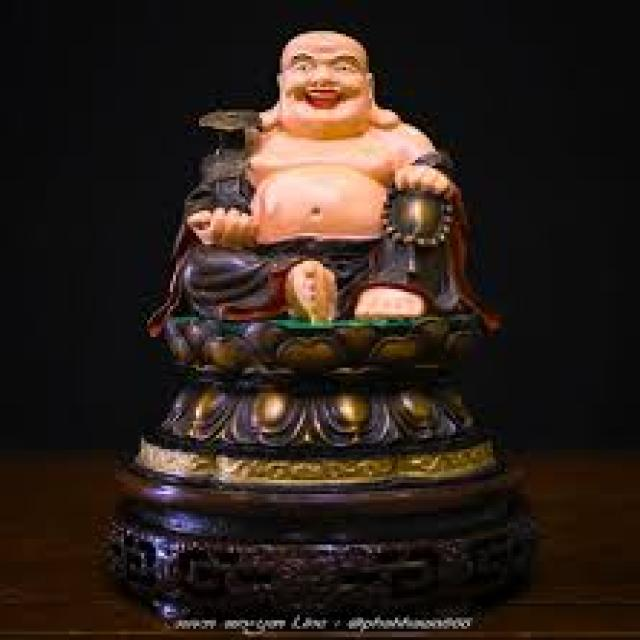Smiling Buddha: (175, 25, 481, 330)
